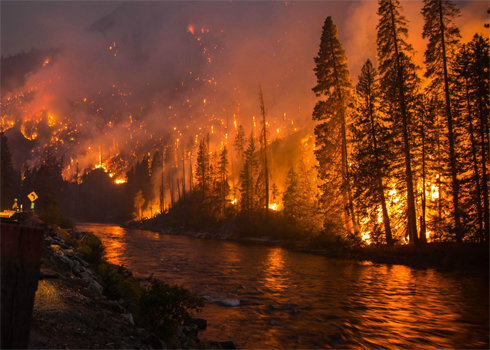fire: (309, 66, 475, 248), (145, 130, 345, 240), (2, 52, 148, 192)
